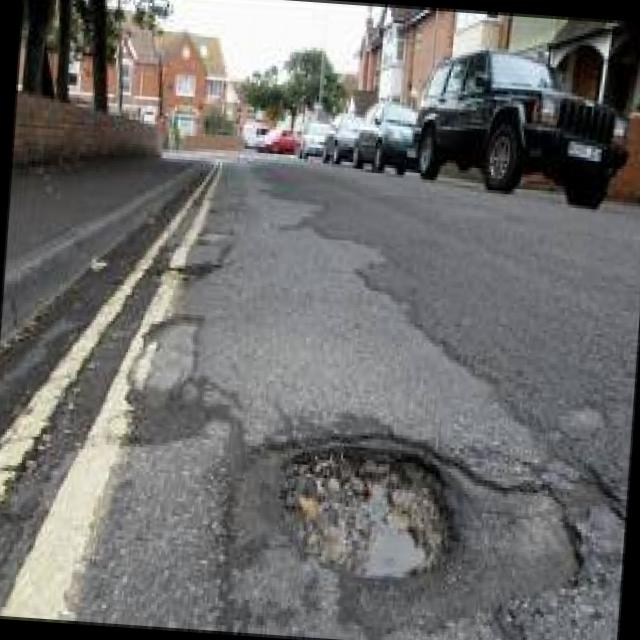Potholes: (265, 411, 481, 607)
